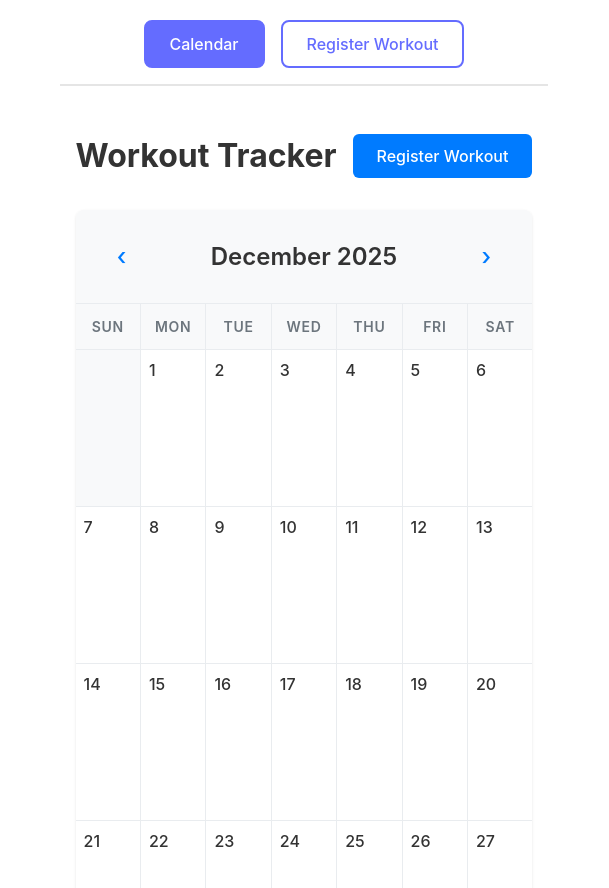
Test case: Workout Tracker Integration Tests › Basic App Functionality › should render app and navigate between views
expect the heading "Workout Tracker" is shown: met, box [76, 138, 336, 174]
Navigate to registration using nav button
Click the button "Register Workout" next to "Workout Tracker": (442, 156) [352, 134, 532, 178]
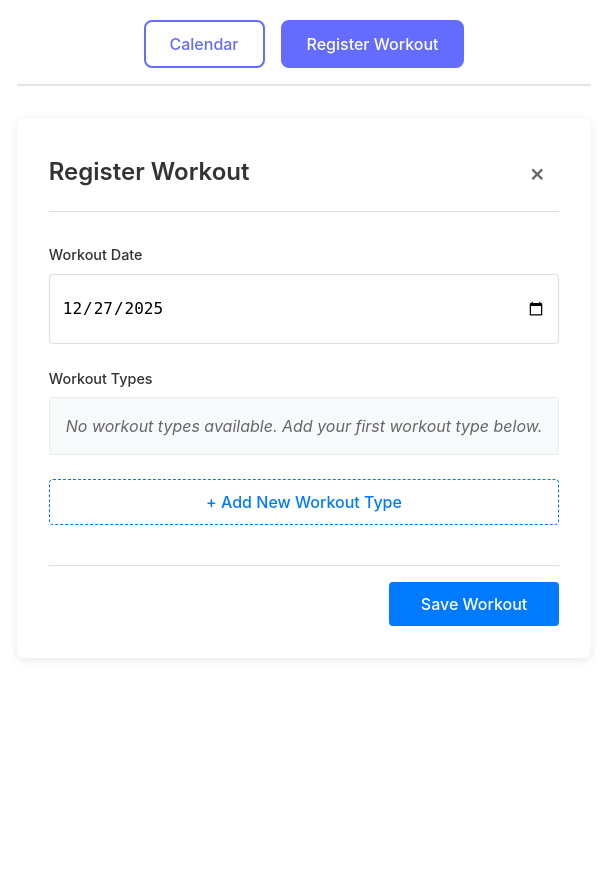
expect the heading "Register Workout" is shown: met, box [49, 159, 250, 186]
expect the date field labelled "Workout Date" is shown: met, box [49, 274, 559, 344]
Navigate back to calendar
Click the button "Calendar": (204, 44) [144, 20, 264, 68]
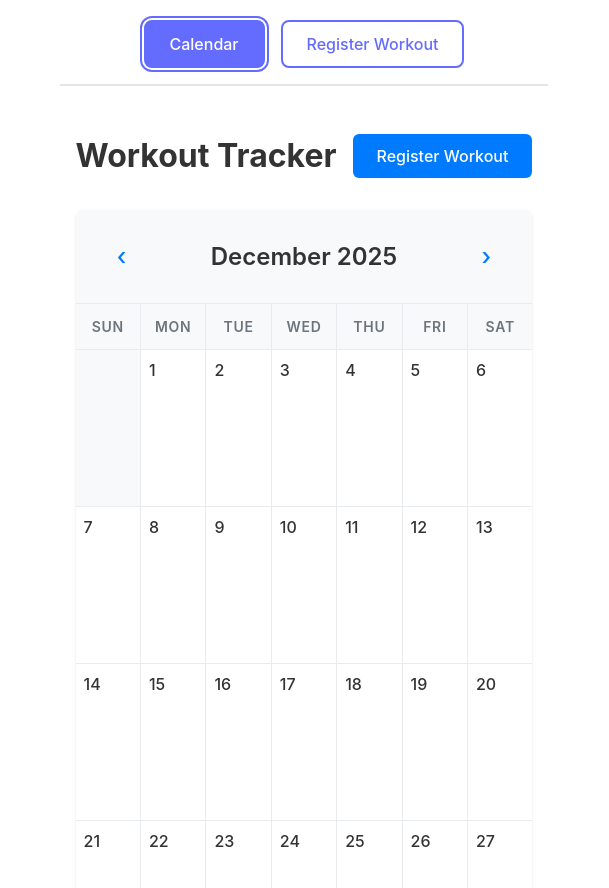
expect the heading "Workout Tracker" is shown: met, box [76, 138, 336, 174]
